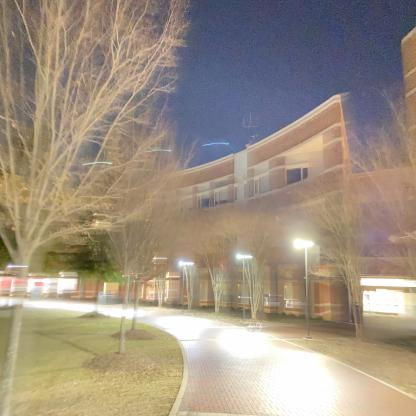eb2: (12, 101, 379, 316)
